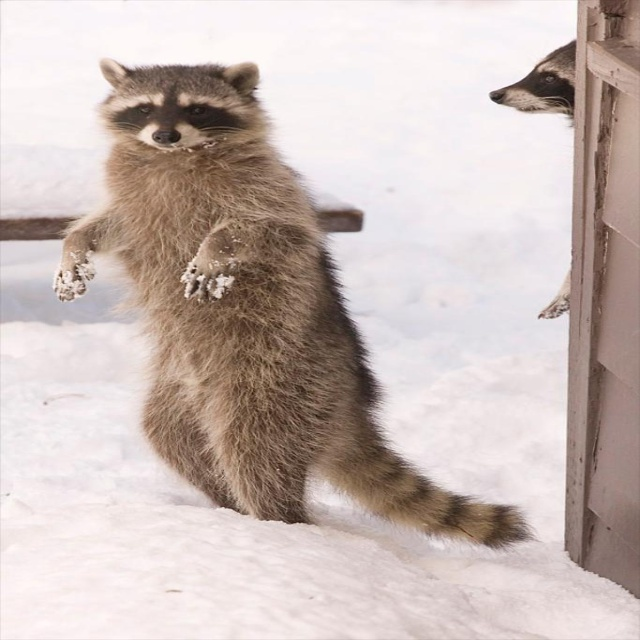Raccoon: (50, 57, 535, 554)
